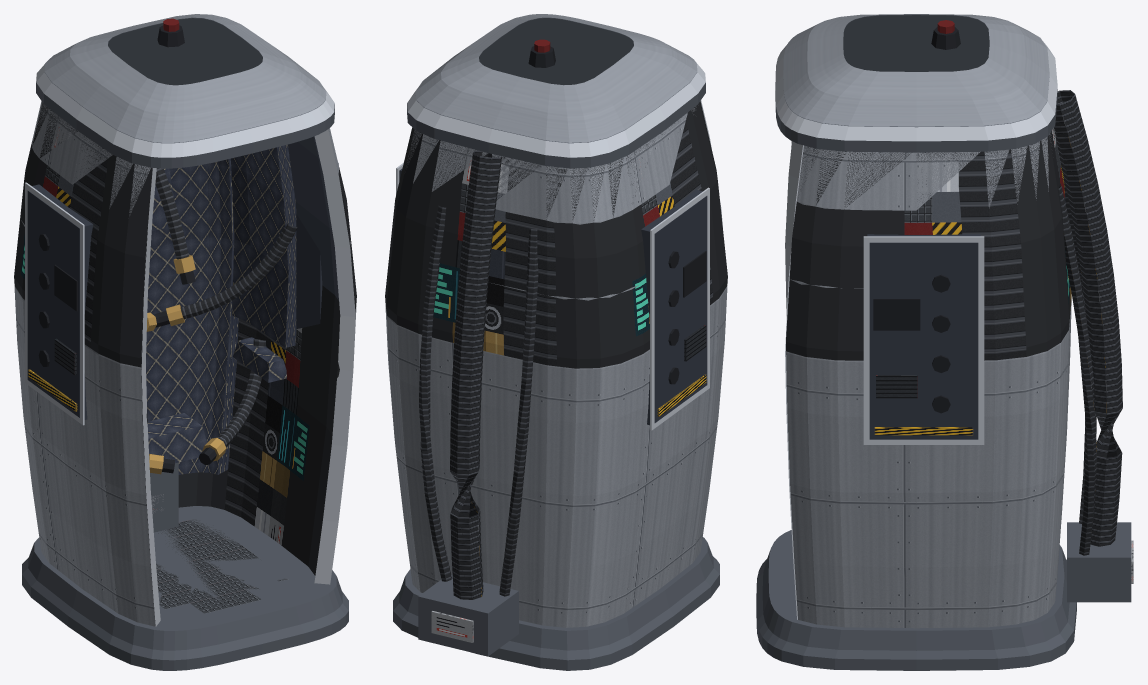
Rendered from stasis_pod.fbx.
3 renders of one model, left to right at view 1: azimuth 30°, elevation 25°; view 2: azimuth 150°, elevation 25°; view 3: azimuth 270°, elevation 25°, orthographic. The views are drawn at different scales.
Visible parts, largest first — view 1: stasis_pod, stasis_pod_phys; view 2: stasis_pod, stasis_pod_phys; view 3: stasis_pod, stasis_pod_phys.
Part boxes in pixels (<box>): stasis_pod: <box>14,14,356,670</box>; stasis_pod_phys: <box>14,103,356,650</box>; stasis_pod: <box>385,14,727,670</box>; stasis_pod_phys: <box>385,101,727,650</box>; stasis_pod: <box>756,14,1133,670</box>; stasis_pod_phys: <box>762,128,1071,650</box>.
Bounding box in the file's own units: 127 × 263 × 153.
3 materials, 3 textured.
